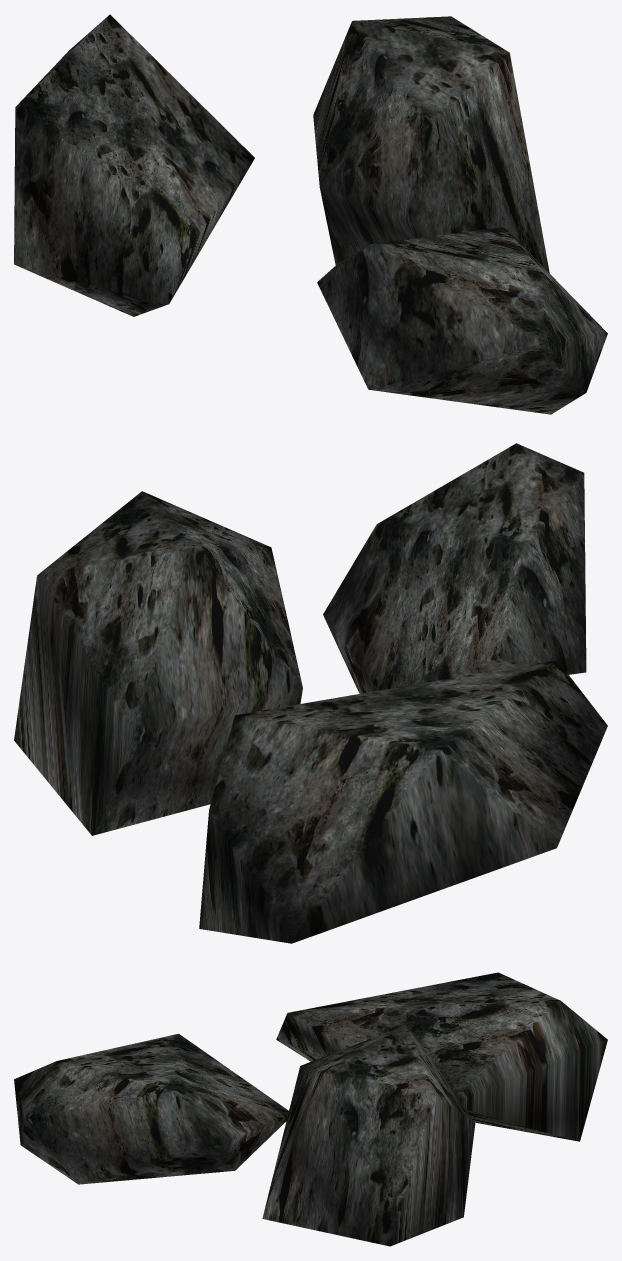
File: rock_scorched_medium_l3.fbx
The picture shows the model from 3 angles, top to bottom: view 1: azimuth 30°, elevation 25°; view 2: azimuth 150°, elevation 25°; view 3: azimuth 270°, elevation 25°; orthographic projection. The views are drawn at different scales.
Parts seen in each view (by area): view 1: mesh_node; view 2: mesh_node; view 3: mesh_node.
Part boxes in pixels (x1,y1,x2,y2): mesh_node: (14, 14, 607, 414); mesh_node: (14, 443, 607, 943); mesh_node: (14, 972, 607, 1246).
Bounding box in the file's own units: 5.74 × 2.59 × 8.02.
1 material, 1 textured.
